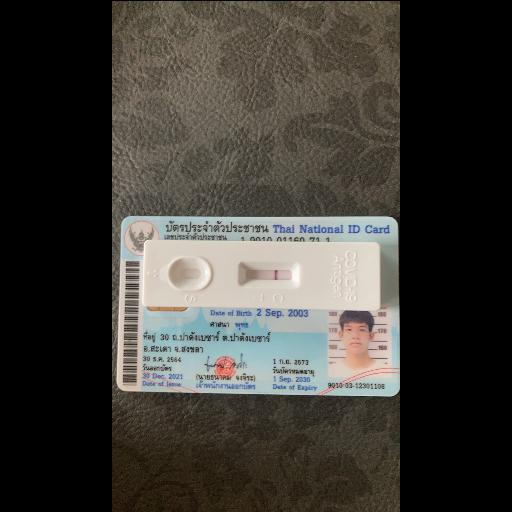Neg: (142, 240, 380, 308)
